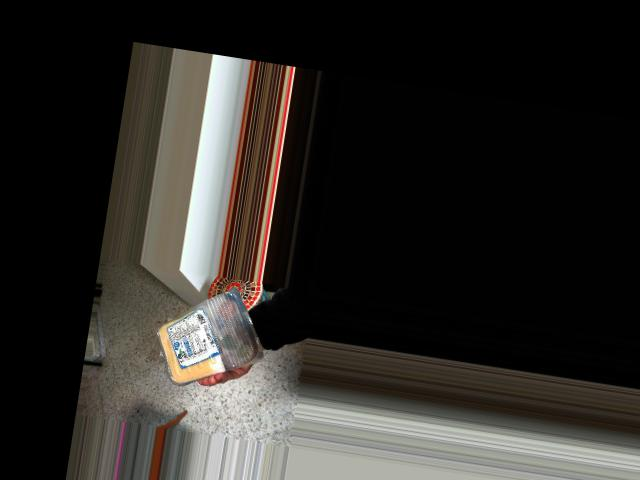cheese: (143, 279, 265, 385)
